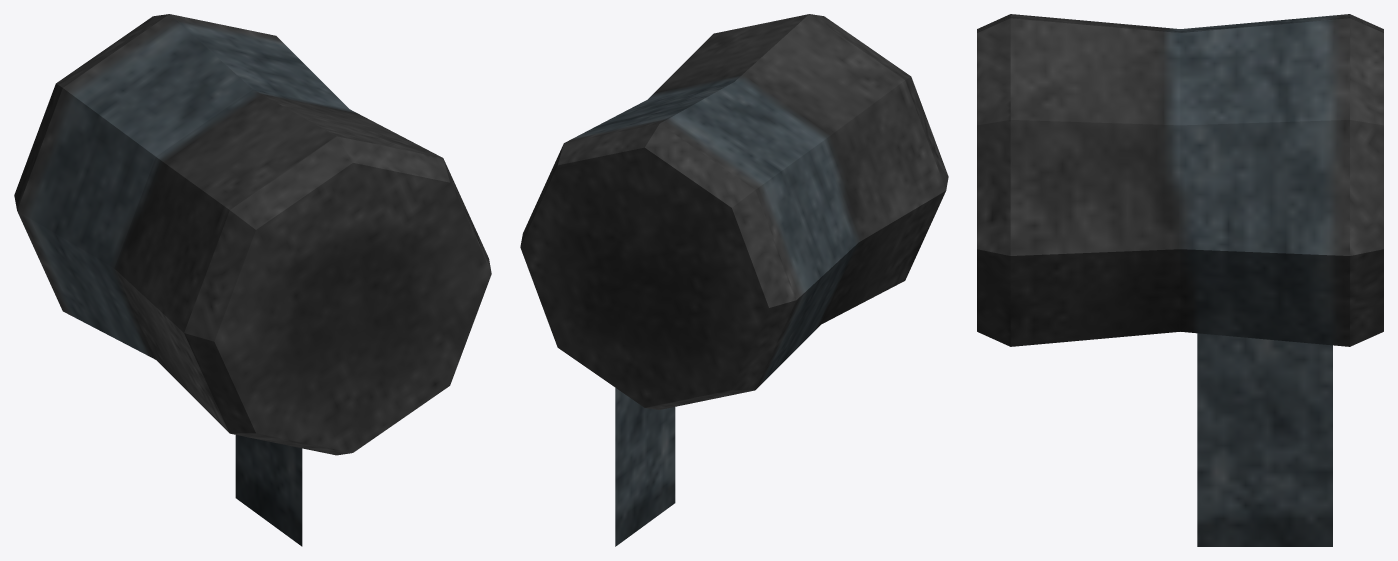
The model's file is ironpikejoint.obj.
3 renders of one model, left to right at view 1: azimuth 30°, elevation 25°; view 2: azimuth 150°, elevation 25°; view 3: azimuth 270°, elevation 25°, orthographic. The views are drawn at different scales.
Parts seen in each view (by area): view 1: Base; view 2: Base; view 3: Base.
Boxes of the visible parts, x1,y1,x2,y2 form: Base: (14, 14, 491, 546); Base: (520, 14, 948, 546); Base: (977, 14, 1383, 546).
Bounding box in the file's own units: 0.2112 × 0.3256 × 0.24.
